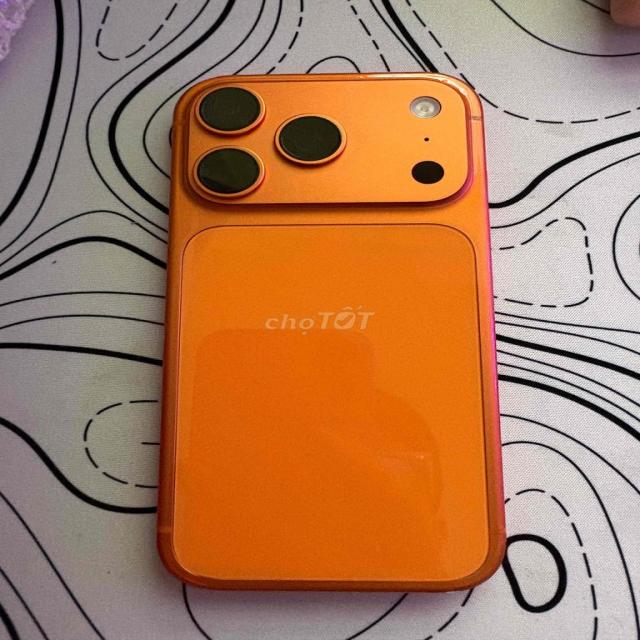gen_17: (158, 63, 502, 603)
